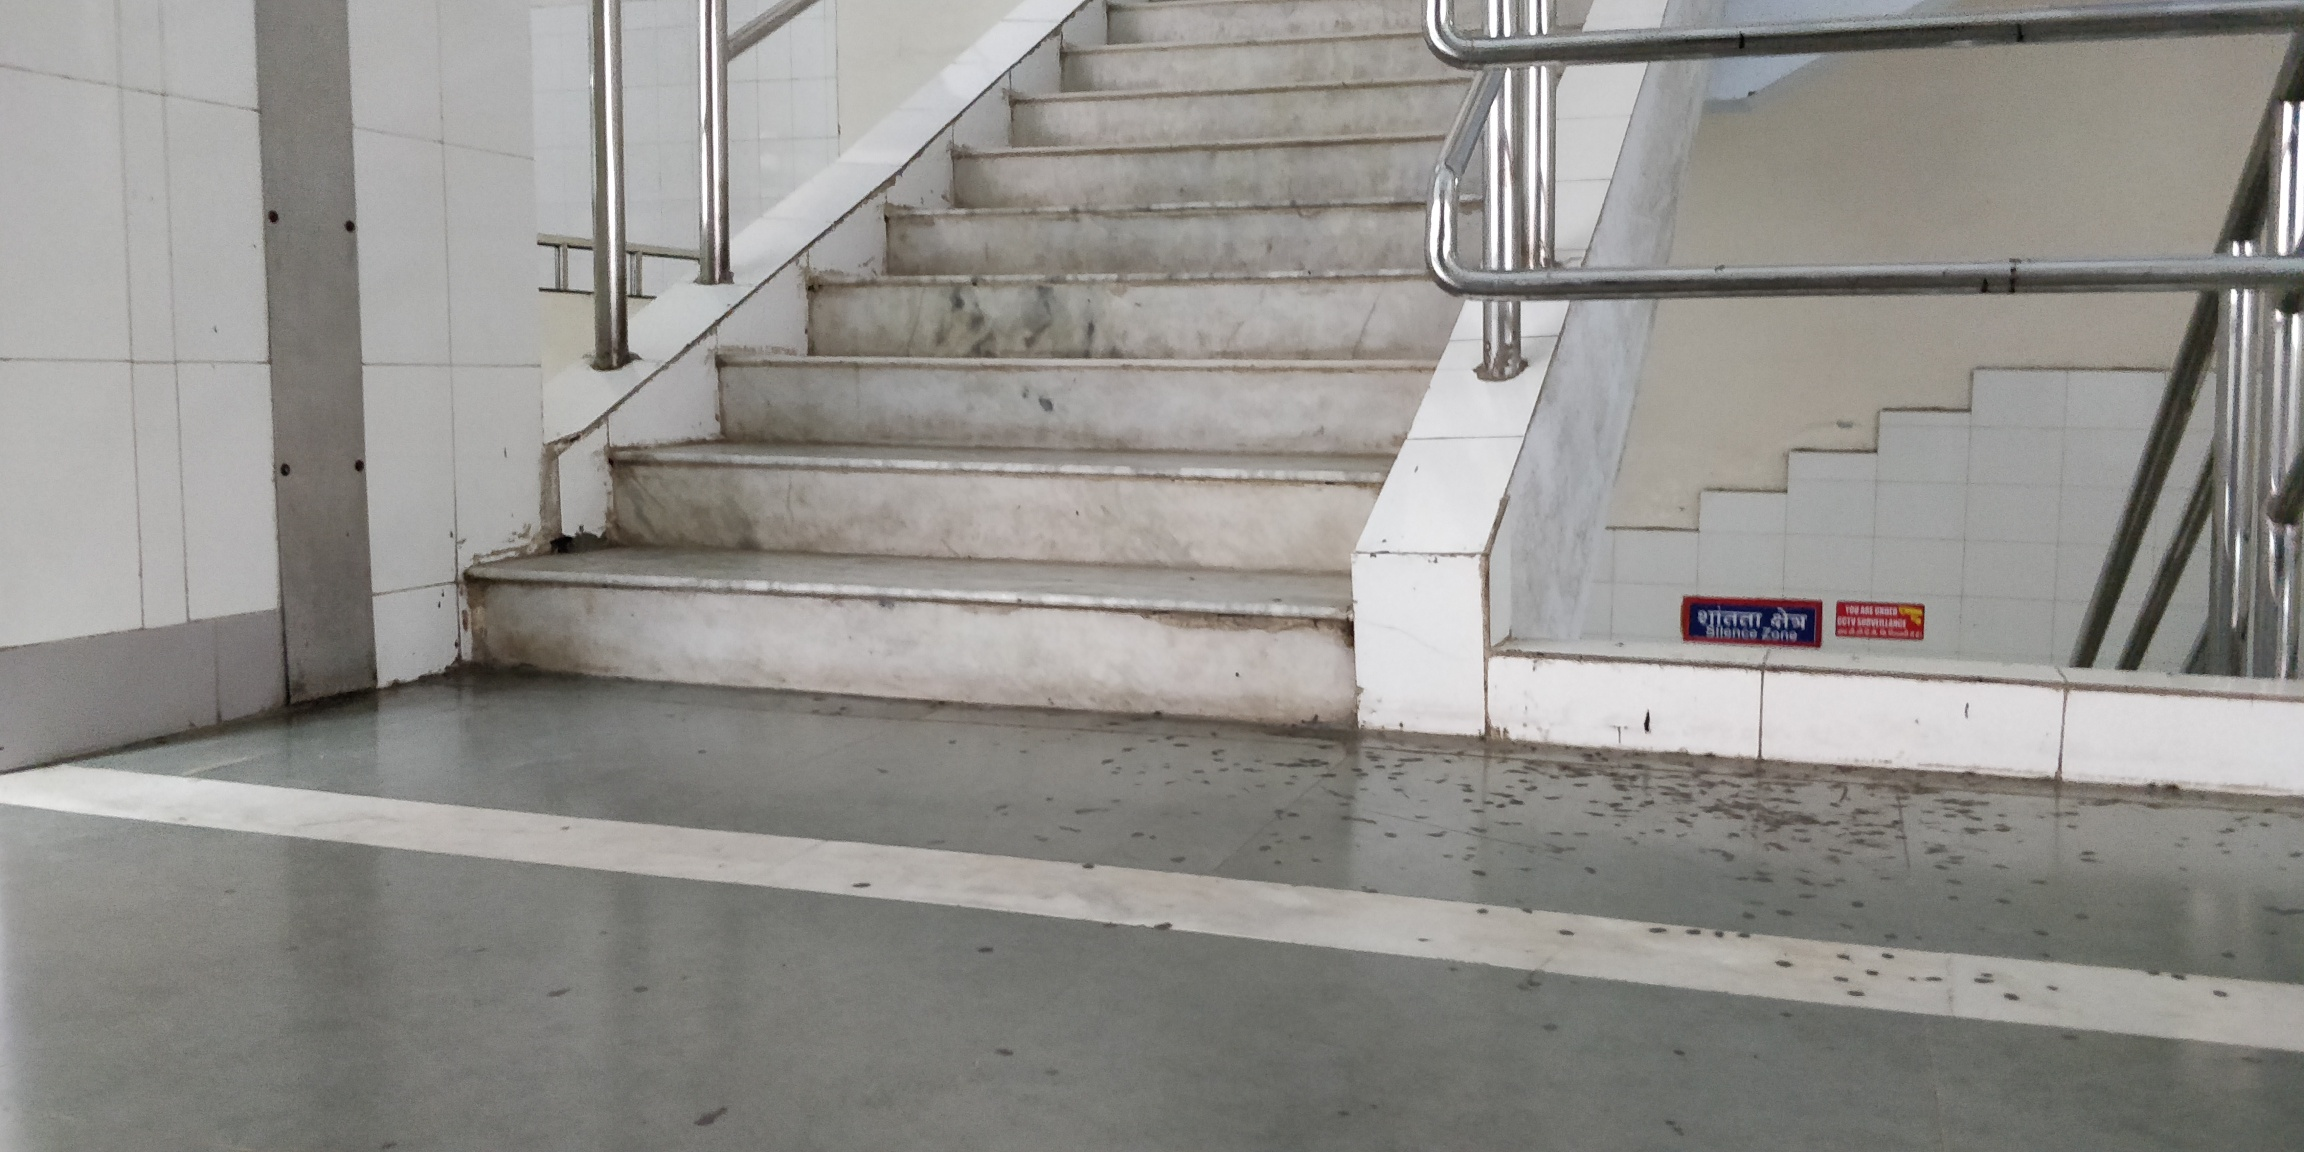stairs_up: (447, 15, 1531, 735)
